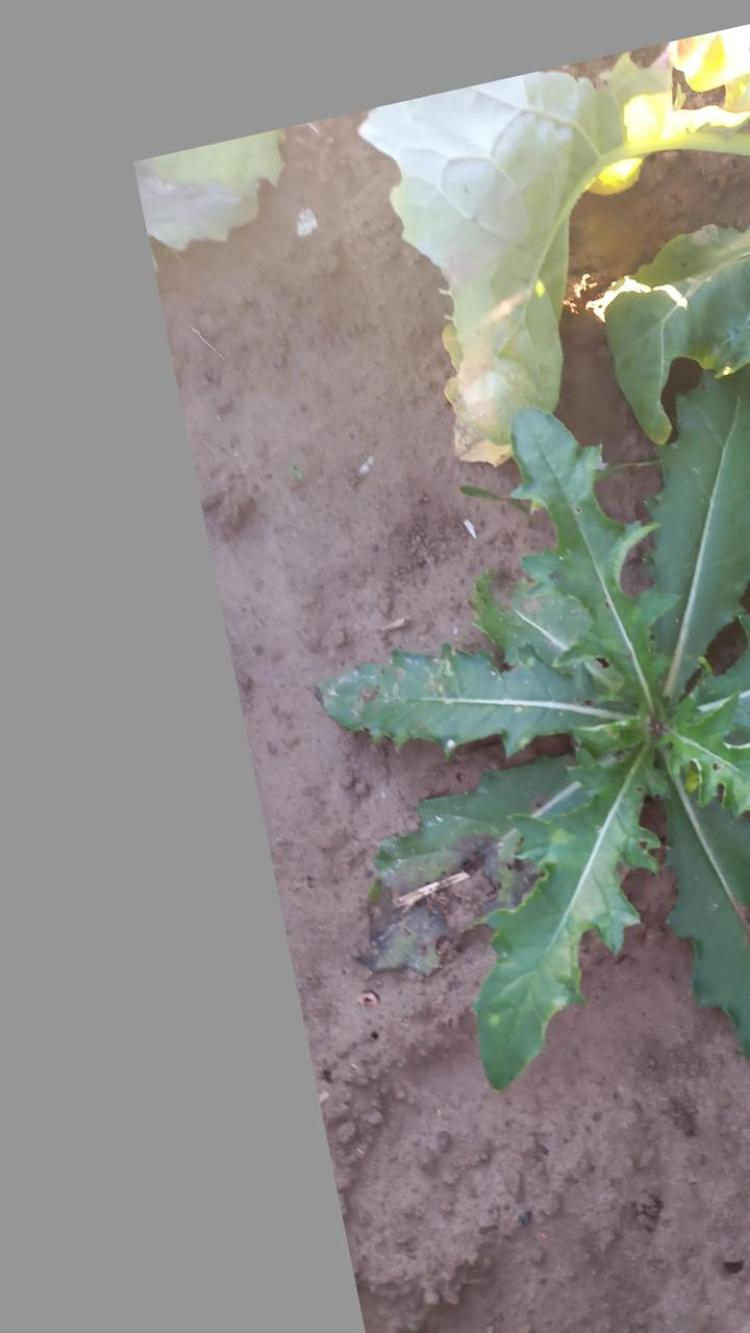bodyak: (323, 366, 750, 1100)
